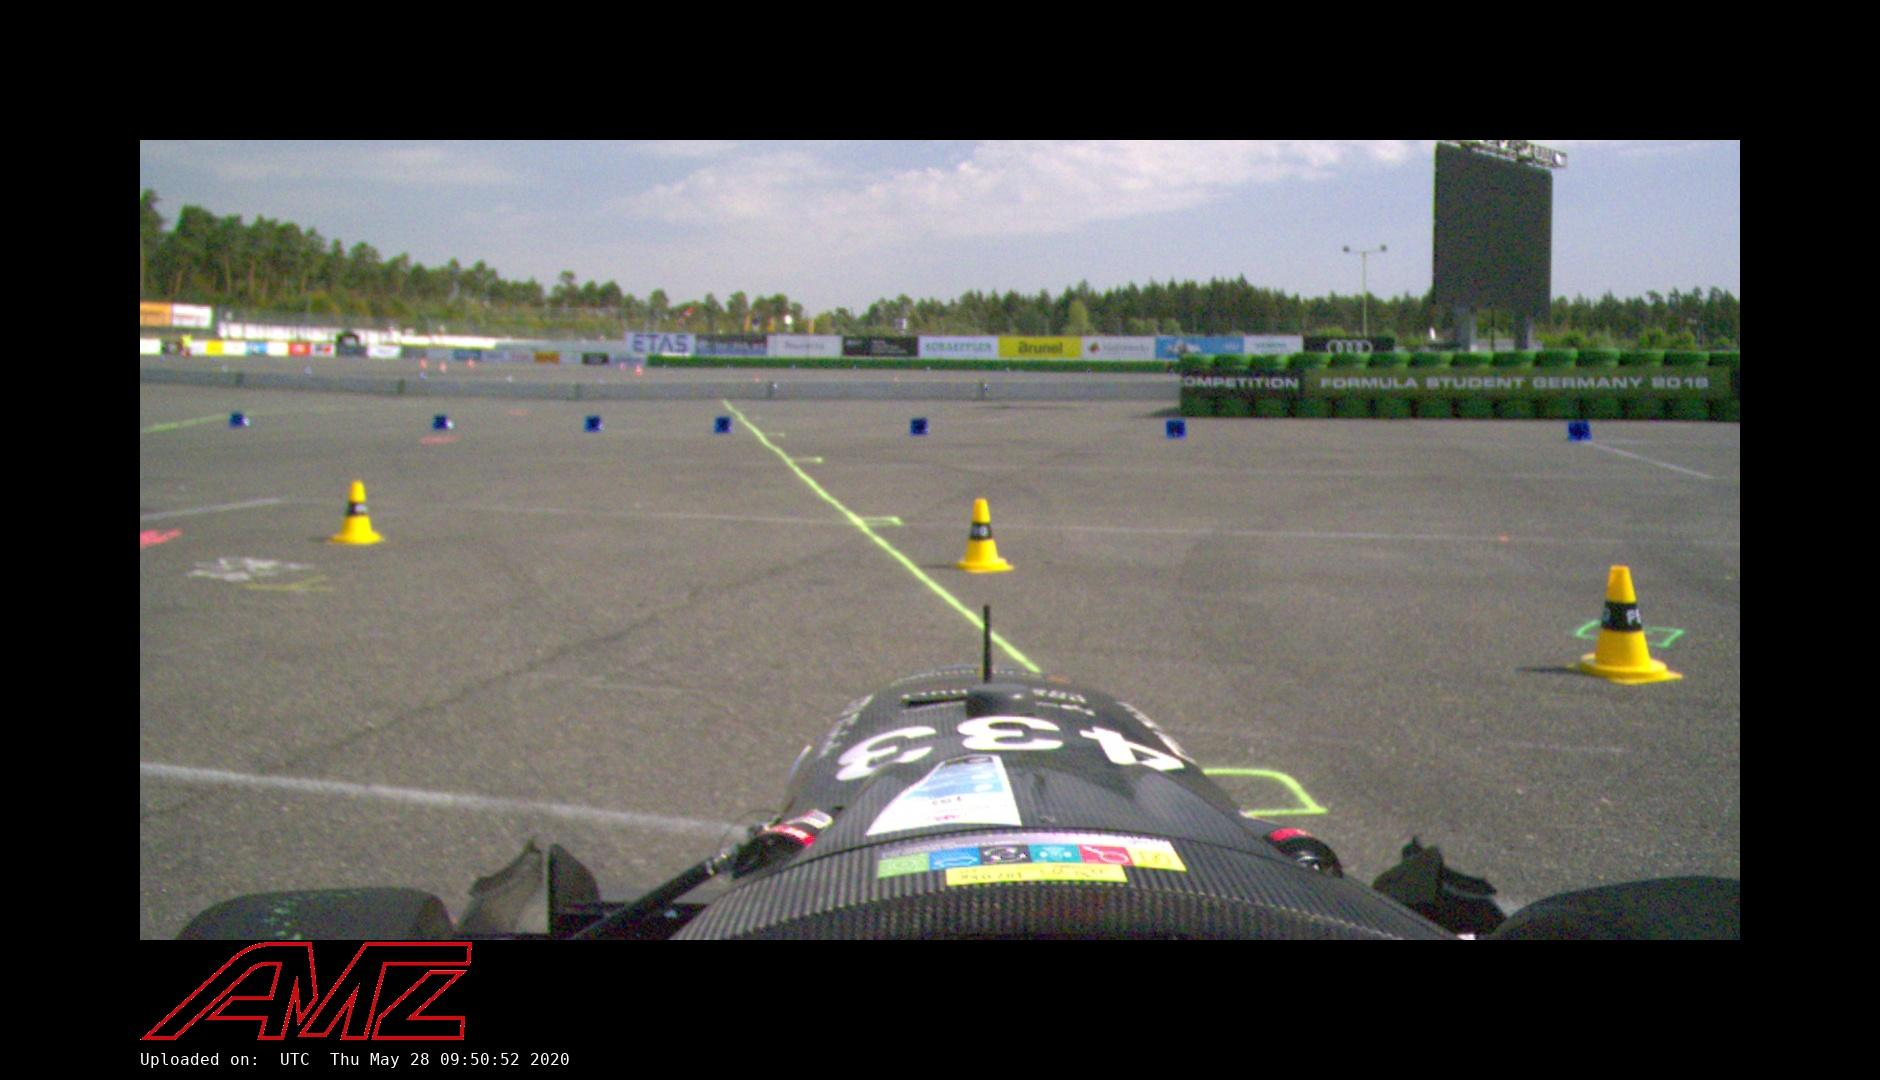blue_cone: (431, 413, 456, 430), (229, 412, 254, 428)
yellow_cone: (1566, 565, 1682, 687), (952, 497, 1014, 574), (324, 481, 383, 546)
